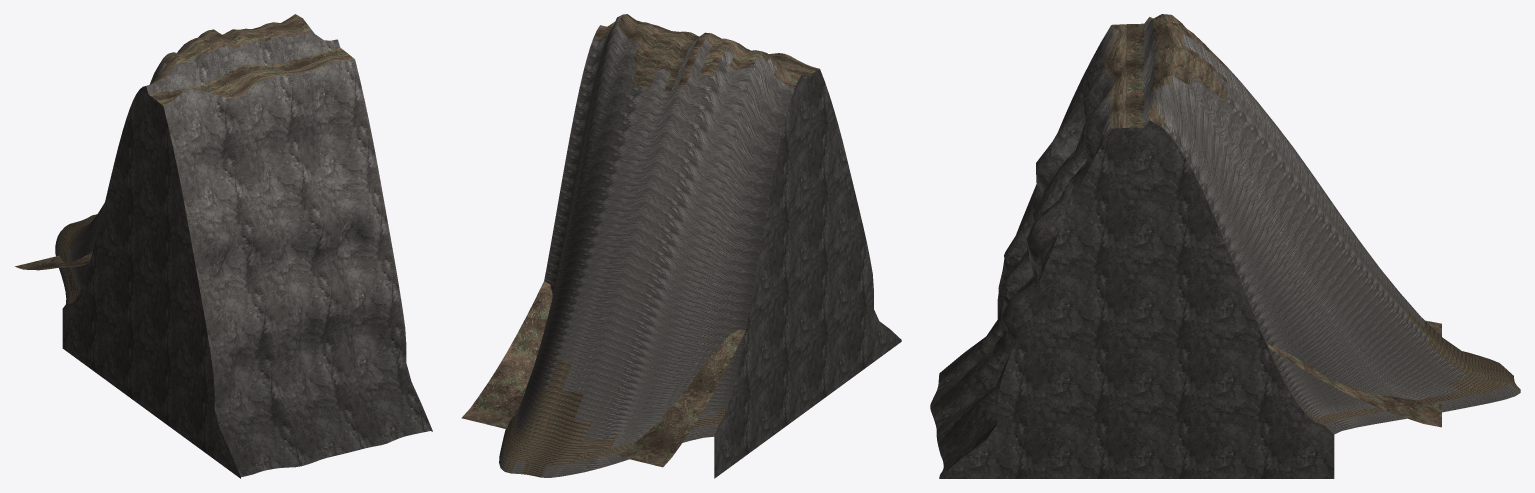
The model's file is seacliff_straight6_h8_v5_autumn.glb.
3 views of the same model, side by side, from view 1: azimuth 30°, elevation 25°; view 2: azimuth 150°, elevation 25°; view 3: azimuth 270°, elevation 25° (orthographic). The views are drawn at different scales.
Parts seen in each view (by area): view 1: seacliff_straight6_h8; view 2: seacliff_straight6_h8; view 3: seacliff_straight6_h8.
Part boxes in pixels (<box>): seacliff_straight6_h8: <box>15,14,432,478</box>; seacliff_straight6_h8: <box>461,14,901,478</box>; seacliff_straight6_h8: <box>930,14,1520,478</box>.
Size of the model in its own units: 6 by 10.49 by 14.44.
2 materials, 2 textured.
